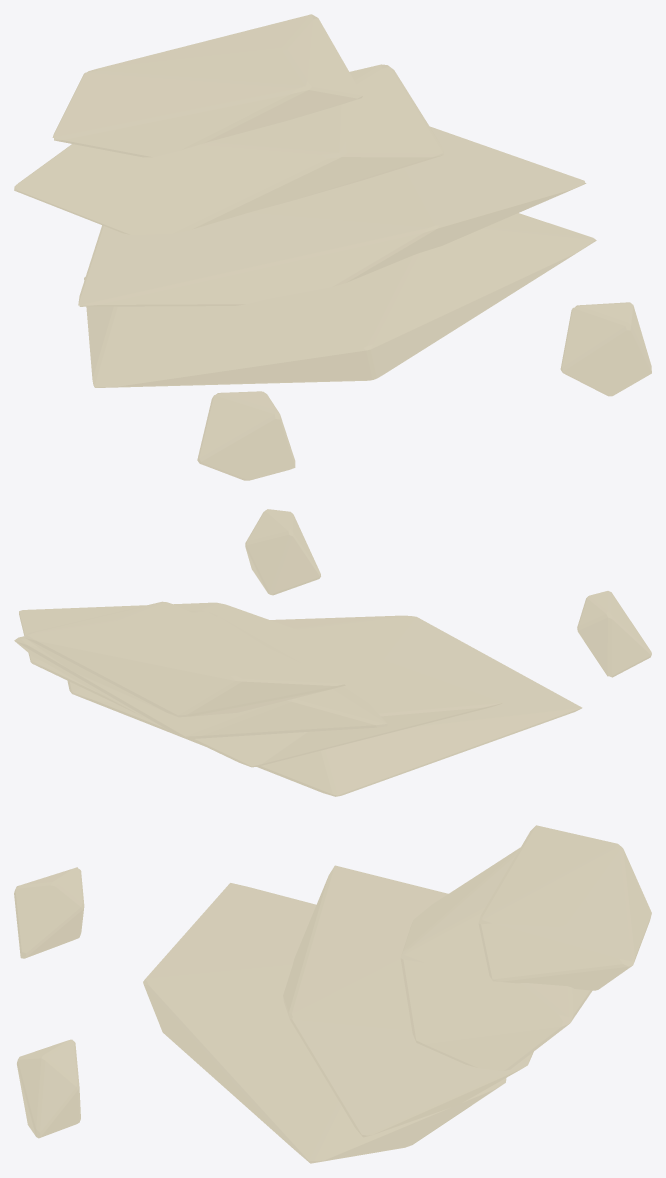
Rendered from Blender_LimestoneBoulder_1.glb.
3 views of the same model, one above another, from view 1: azimuth 30°, elevation 25°; view 2: azimuth 150°, elevation 25°; view 3: azimuth 270°, elevation 25° (orthographic). The views are drawn at different scales.
Visible parts, largest first — view 1: Blender_LimestoneBoulder_1; view 2: Blender_LimestoneBoulder_1; view 3: Blender_LimestoneBoulder_1.
Boxes of the visible parts, bbox=[...] form: Blender_LimestoneBoulder_1: bbox=[14, 14, 651, 480]; Blender_LimestoneBoulder_1: bbox=[14, 509, 651, 796]; Blender_LimestoneBoulder_1: bbox=[14, 825, 651, 1163].
Bounding box in the file's own units: 4.1 × 1.19 × 4.03.
